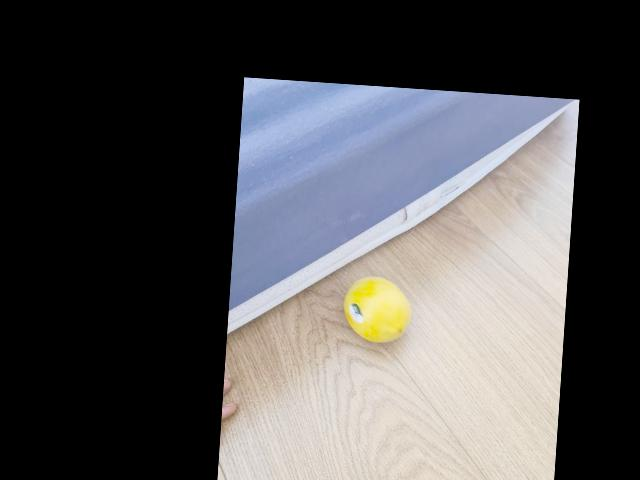lemon: (341, 278, 417, 340)
